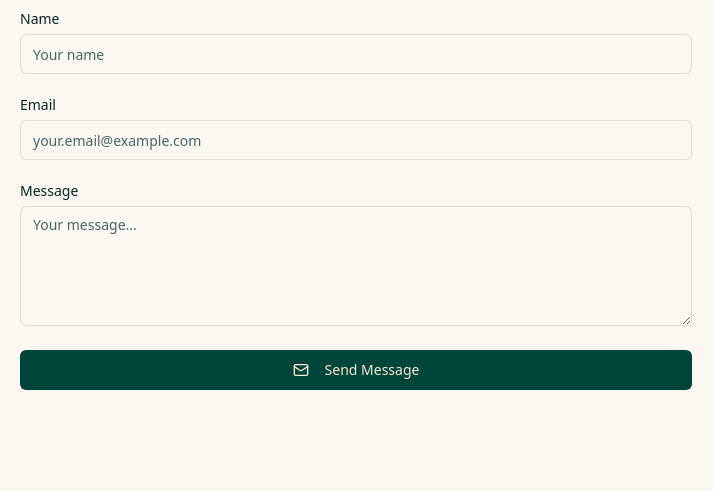
it: ContactForm › should display validation error for name shorter than 2 characters
In the field labelled "Name": x=356, y=54 [20,34,692,74], type "J"
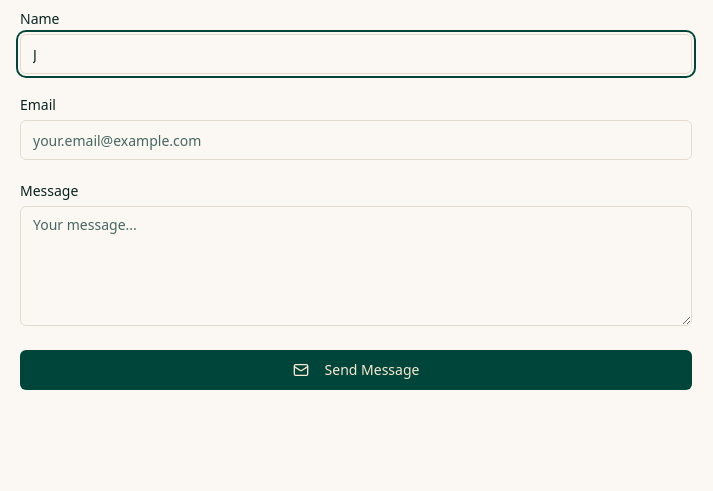
Click the button "Send Message": x=356, y=370 [20,350,692,390]
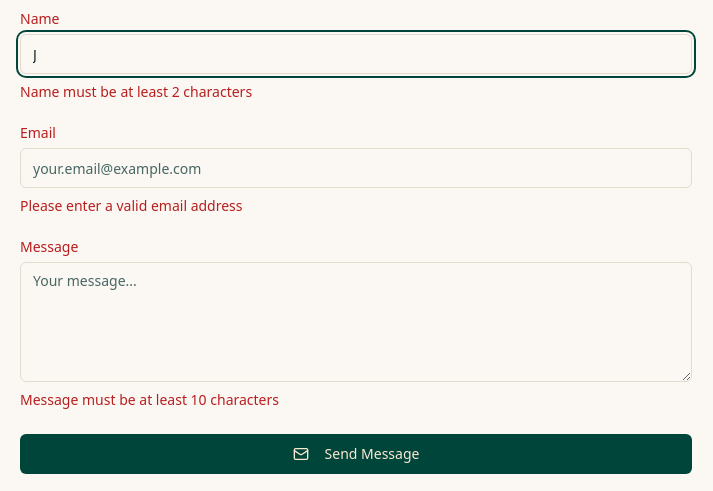
Now the text "Name must be at least 2 characters" is shown, box [20,82,252,101]
